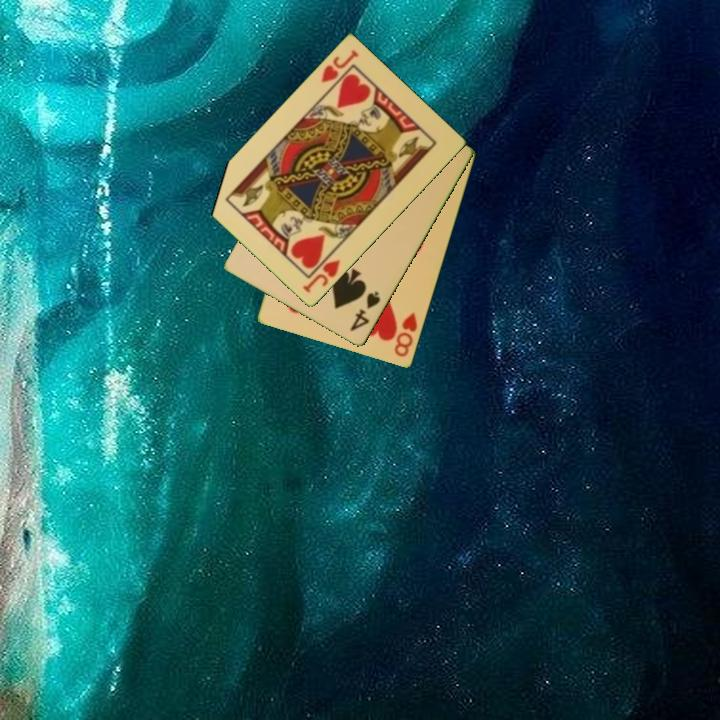4s: (347, 288, 384, 335)
8h: (391, 309, 421, 360)
Jh: (299, 256, 343, 296), (317, 47, 362, 86)
